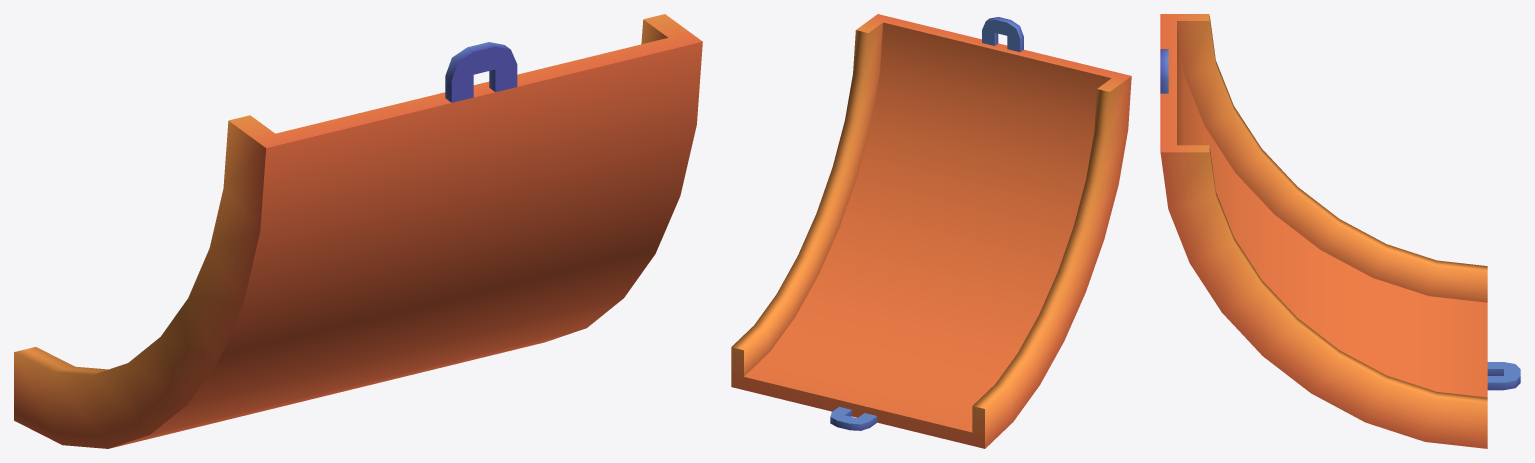
The model's file is track-wide-straight-bend.glb.
The picture shows the model from 3 angles, left to right: view 1: azimuth 30°, elevation 25°; view 2: azimuth 150°, elevation 25°; view 3: azimuth 270°, elevation 25°; orthographic projection. The views are drawn at different scales.
Parts seen in each view (by area): view 1: track-wide-straight-bend; view 2: track-wide-straight-bend; view 3: track-wide-straight-bend.
Part boxes in pixels (bbox=[...]): track-wide-straight-bend: bbox=[14, 14, 702, 448]; track-wide-straight-bend: bbox=[731, 14, 1131, 448]; track-wide-straight-bend: bbox=[1160, 14, 1520, 448].
Bounding box in the file's own units: 2 × 2.2 × 2.2.
1 material, 1 textured.
